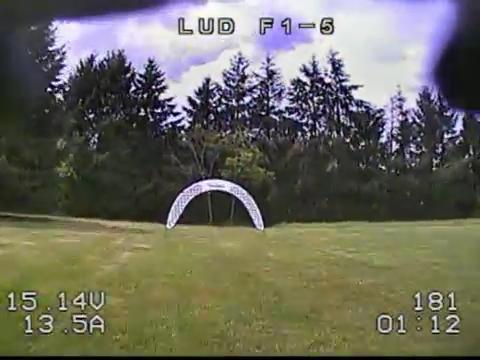gate: (166, 177, 265, 232)
